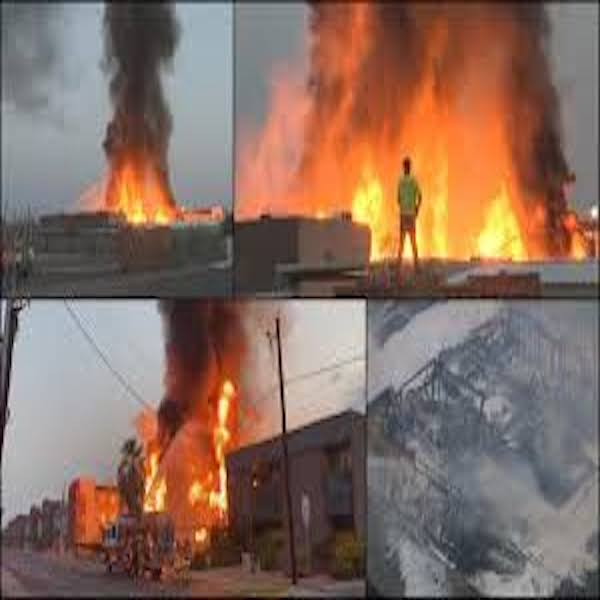fire: (310, 1, 547, 158), (425, 162, 591, 264), (164, 320, 232, 540), (107, 108, 177, 223), (306, 166, 395, 222), (135, 428, 164, 513)
